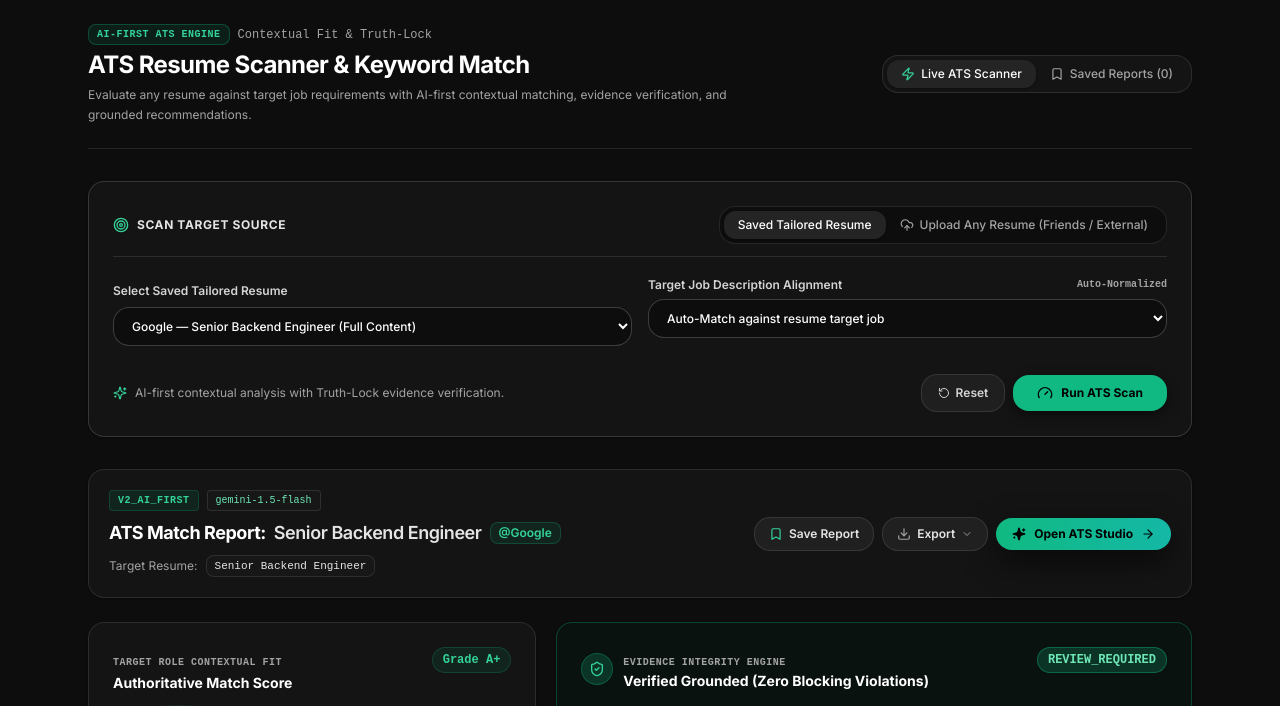
ScannerPage Phase 6 AI-First Integration Suite › renders Section Analysis and Contextual Keywords workspaces in ATS Studio
This screenshot has width=1280, height=706.
Open ATS Studio
Click the button with test id "open-ats-studio-btn".
click(1084, 534)  # box [996,518,1171,550]
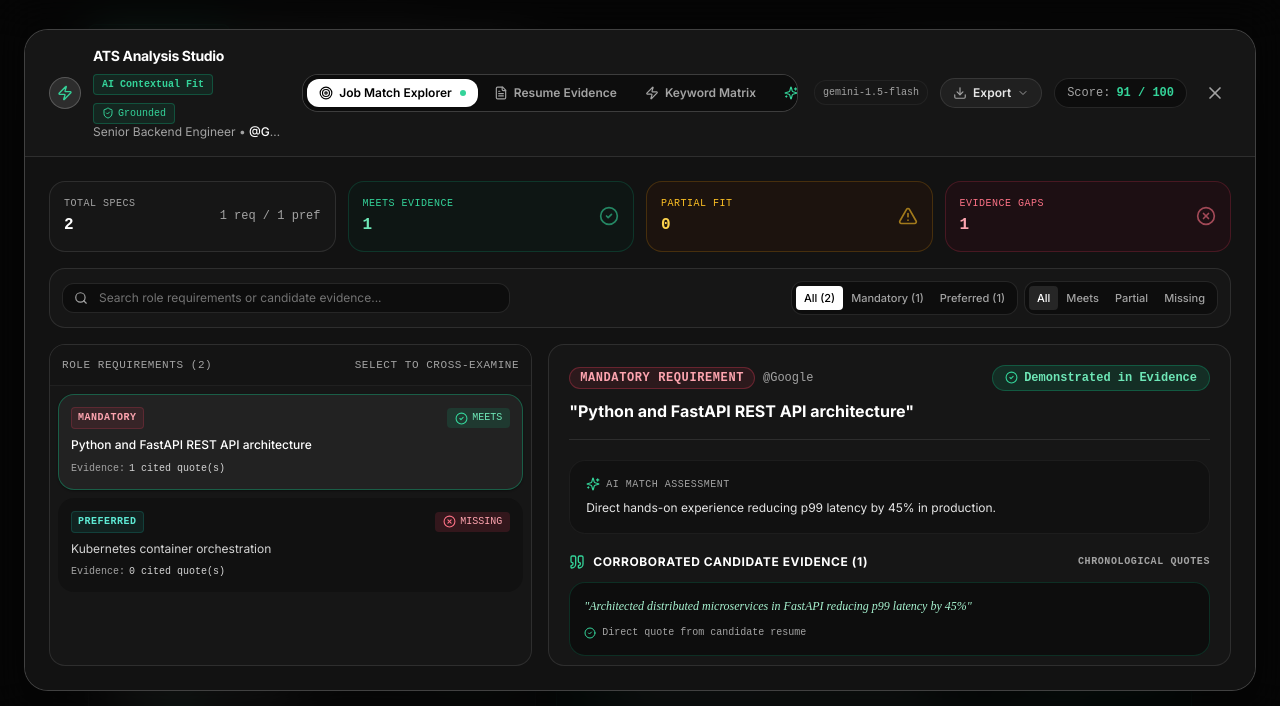
Result: the dialog with test id "ats-studio-modal" is shown
Switch to Resume Evidence tab
Click the tab "Resume Evidence".
click(555, 93)  # box [482,79,629,107]
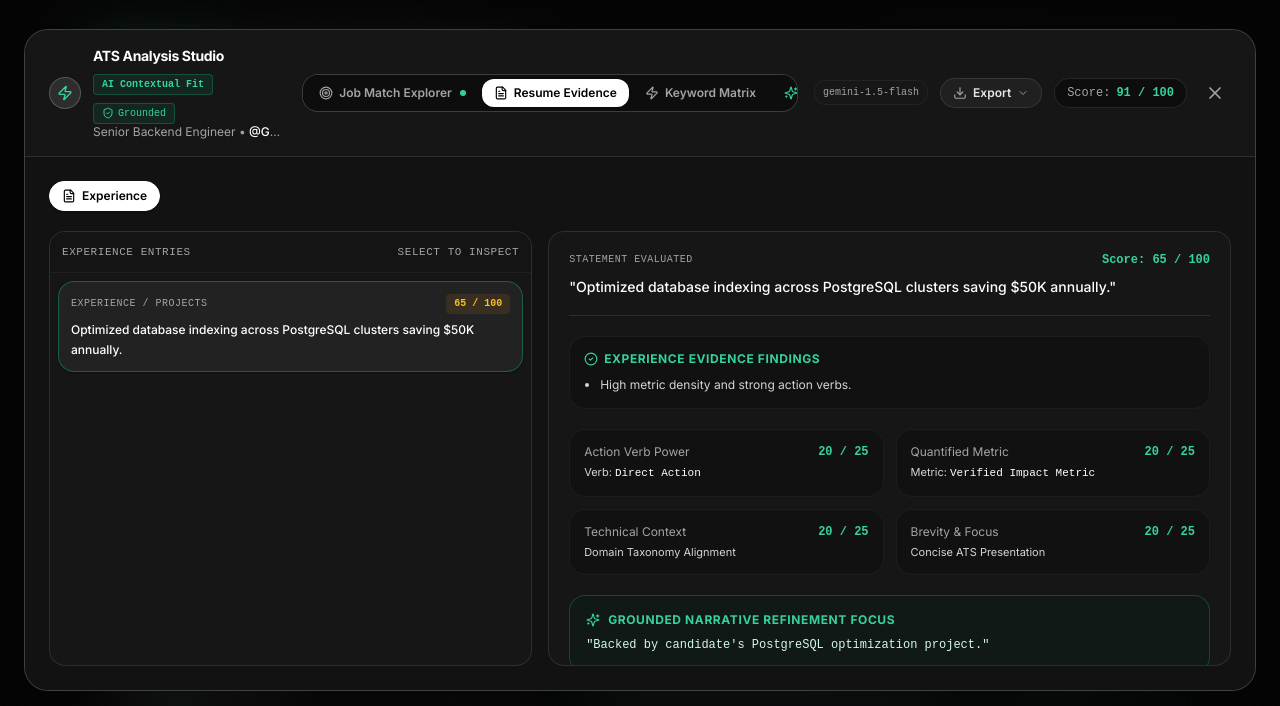
Result: the element with test id "resume-evidence-view" is shown
Result: the text "Experience" is shown at [82,188,147,204]
Result: the list item "High metric density and strong action verbs." is shown at [600,376,852,392]
Switch to Keywords tab
Click the tab "Keyword Matrix".
click(700, 93)  # box [633,79,768,107]
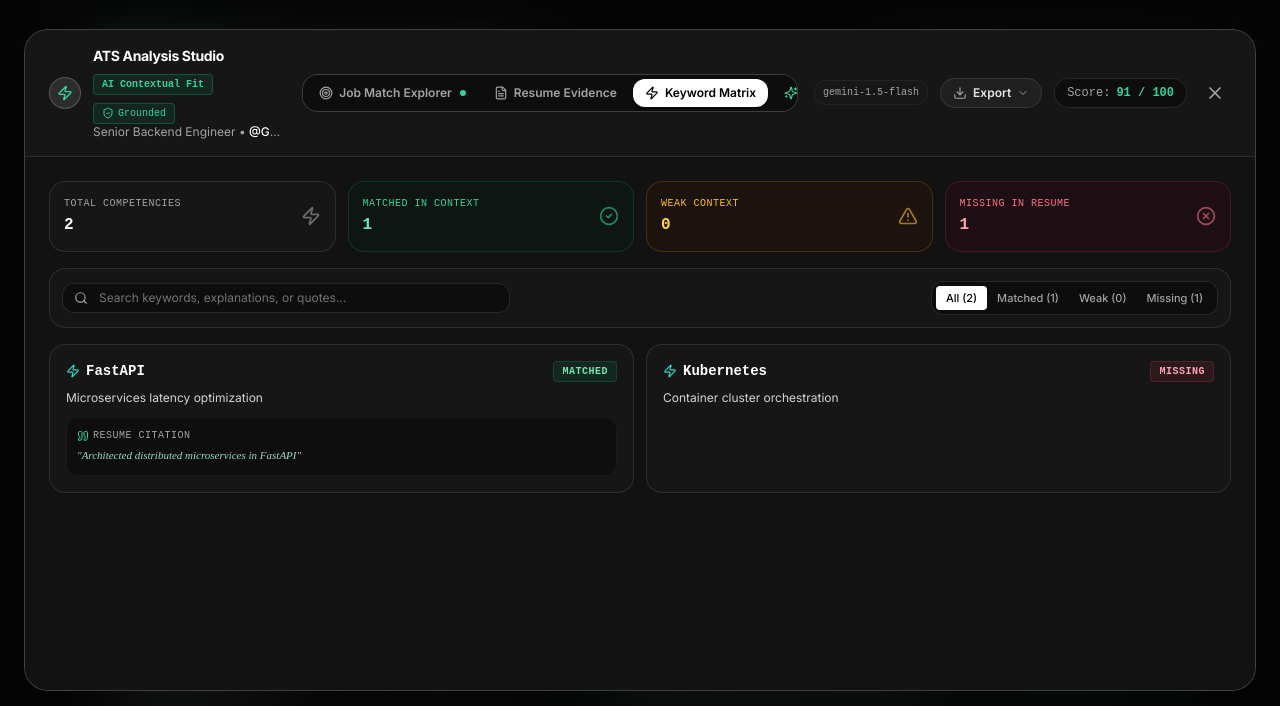
Result: the element with test id "keyword-explorer-view" is shown
Result: the text "Microservices latency optimization" is shown at [66,390,263,405]
